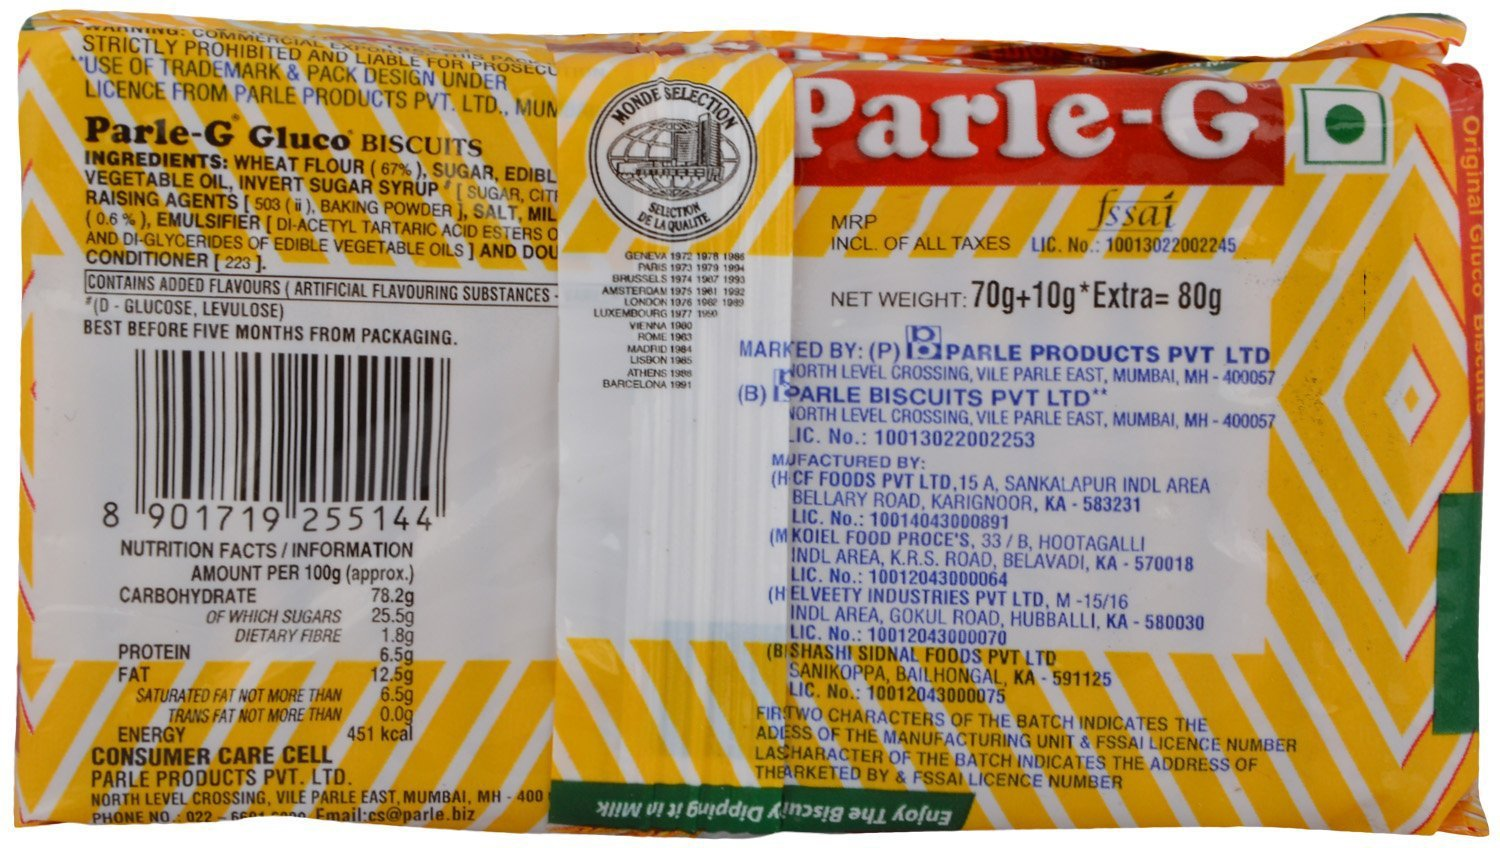VEG: (1291, 82, 1395, 176)
